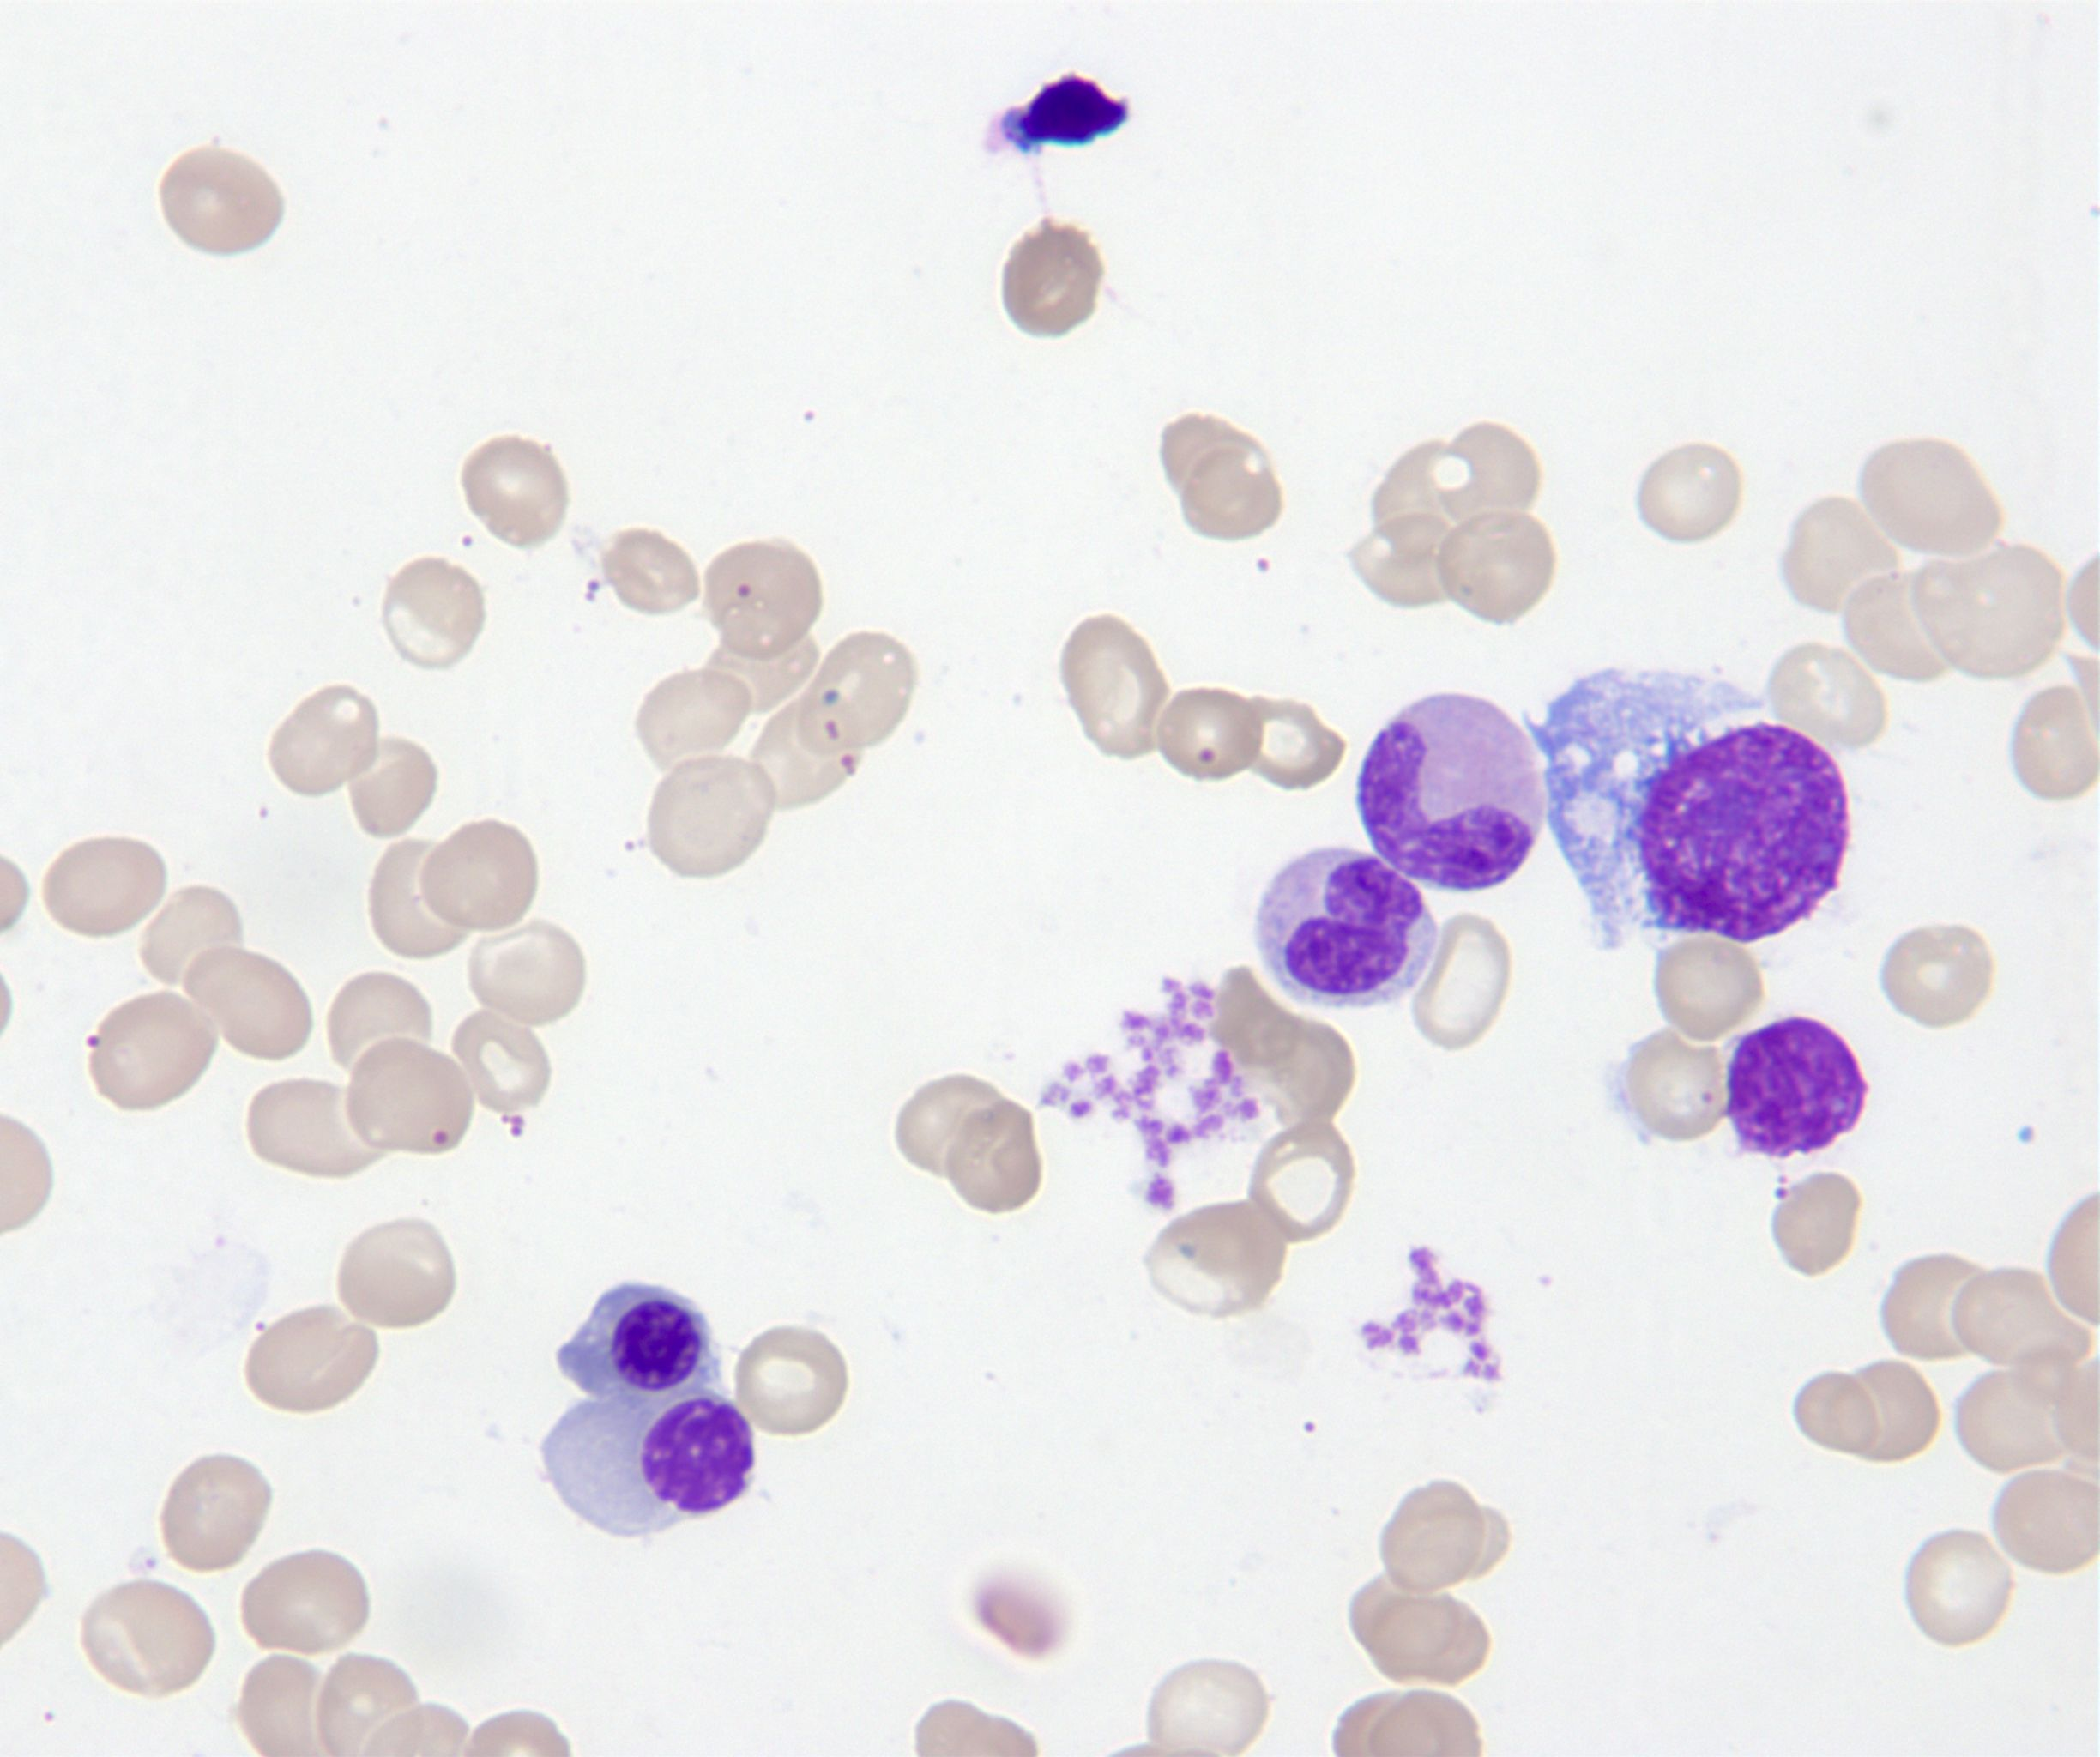24: (542, 1396, 755, 1537), (556, 1284, 720, 1406)
5: (1360, 694, 1544, 892)
6: (1256, 850, 1437, 1007)
x: (1524, 670, 1847, 951), (1720, 1017, 1866, 1155), (1003, 72, 1130, 154)
